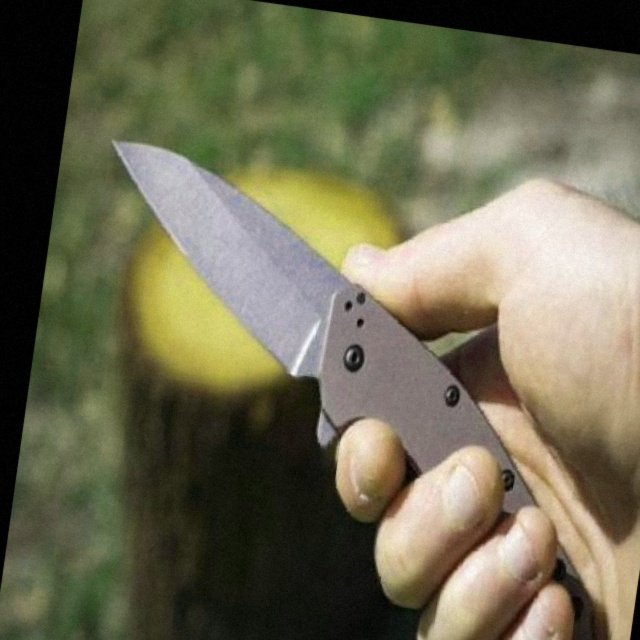Sharp-Object: (46, 138, 640, 640)
